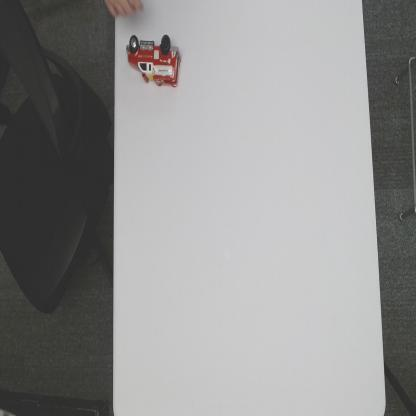Firetruck: (126, 30, 184, 90)
